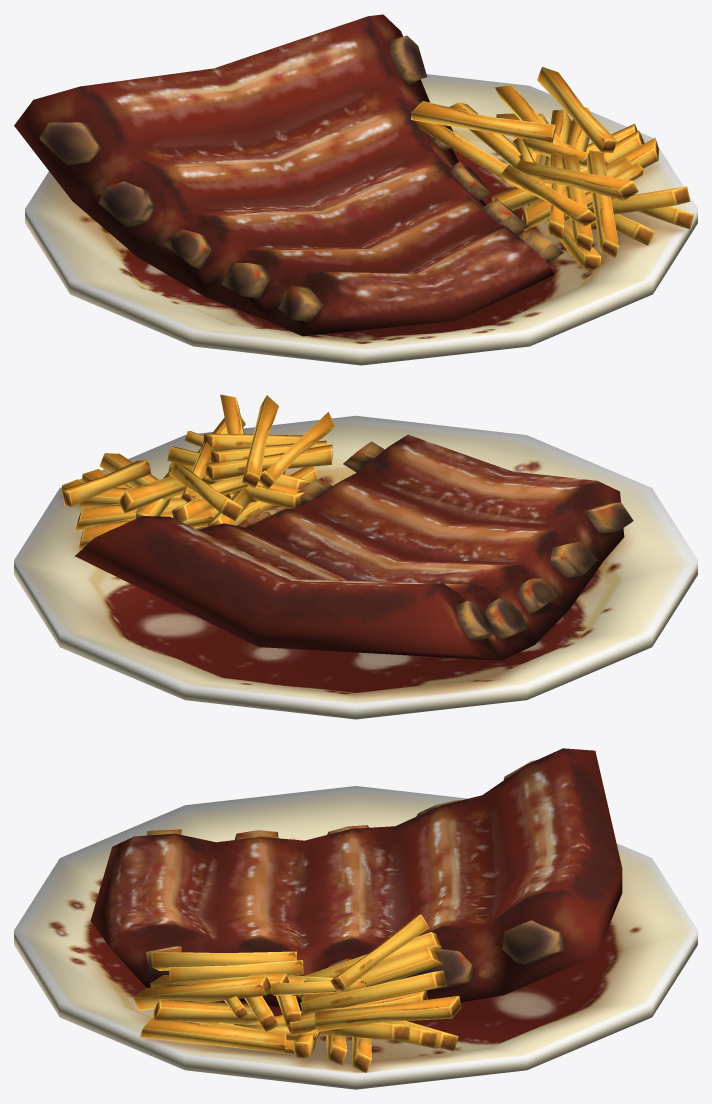
File: Item-Ribs_Anim.FBX
3 renders of one model, top to bottom at view 1: azimuth 30°, elevation 25°; view 2: azimuth 150°, elevation 25°; view 3: azimuth 270°, elevation 25°, orthographic.
Parts seen in each view (by area): view 1: Ribs; view 2: Ribs; view 3: Ribs.
Boxes of the visible parts, x1,y1,x2,y2 form: Ribs: (14,14,697,365); Ribs: (14,394,697,719); Ribs: (14,748,697,1089).
Size of the model in its own units: 70 by 14.42 by 70.
